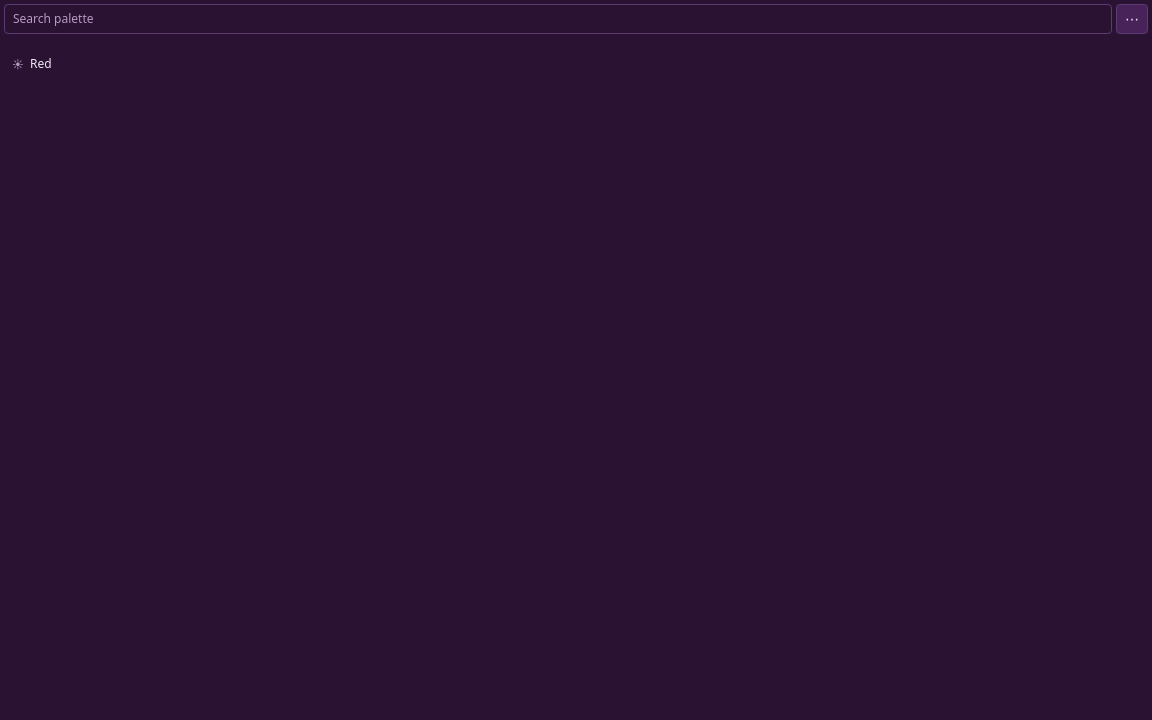
it: Preset palette rename focus › focuses the rename box when Enter renames the selected preset
Right-click the list item "☀ Red".
right_click(576, 64)  # box [4,50,1148,78]
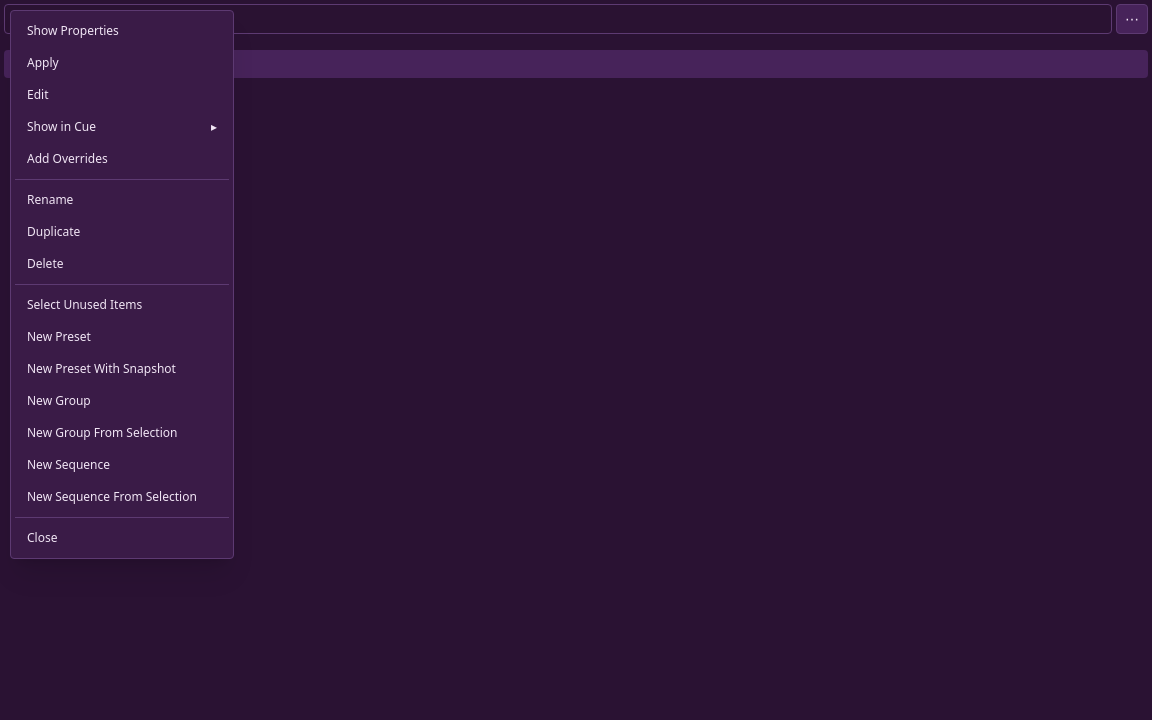
Press Enter in the element showing "☀ Red", box [4,50,1148,78]
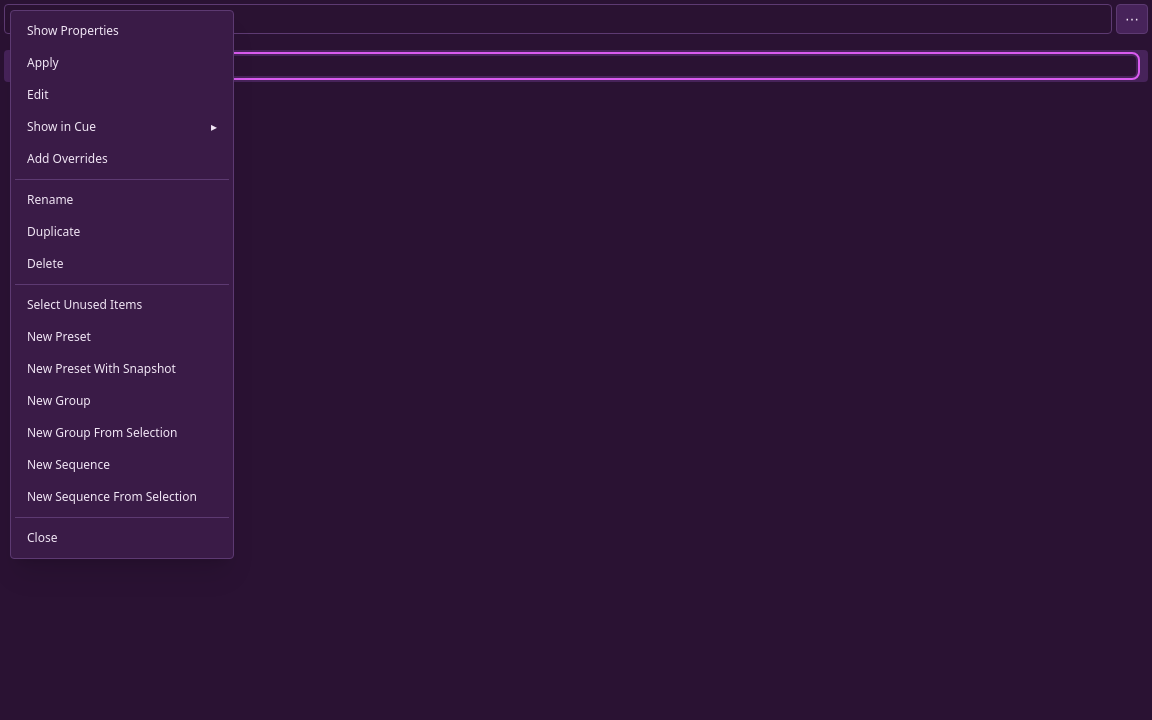
Check: the field named "Rename preset" is shown, box [30,56,1136,76]
